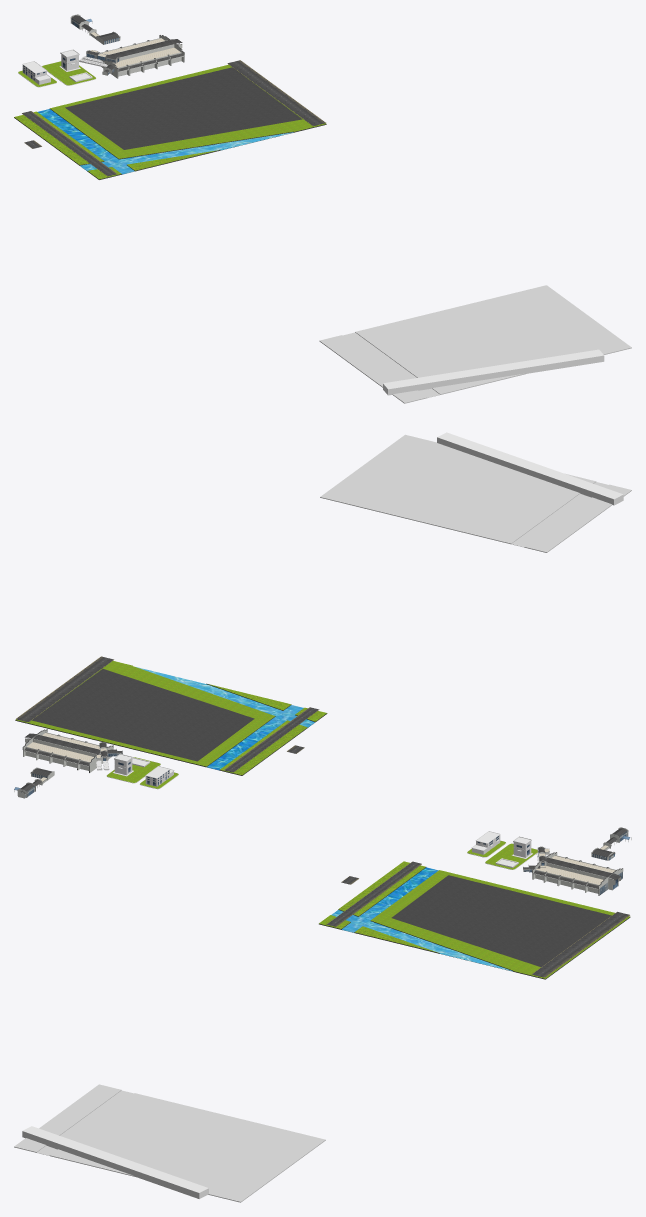
Rendered from runyang3.glb.
3 renders of one model, top to bottom at view 1: azimuth 30°, elevation 25°; view 2: azimuth 150°, elevation 25°; view 3: azimuth 330°, elevation 25°, orthographic.
Visible parts, largest first — view 1: 立方体.001, 立方体.004, 立方体.003, v型滤池, 原水泵站, rua_Cubo.003, rua_Cubo.001, 调度中心.001; view 2: 立方体.004, 立方体.001, 立方体.003, v型滤池, 原水泵站, rua_Cubo.003, rua_Cubo.001, 调度中心.001; view 3: 立方体.001, 立方体.004, 立方体.003, v型滤池, 原水泵站, rua_Cubo.003, rua_Cubo.001, 调度中心.001.
Boxes of the visible parts, <box> form: 立方体.001: <box>14,64,326,179</box>; 立方体.004: <box>319,285,631,403</box>; 立方体.003: <box>383,349,604,395</box>; v型滤池: <box>98,35,184,78</box>; 原水泵站: <box>18,49,96,87</box>; rua_Cubo.003: <box>227,60,325,126</box>; rua_Cubo.001: <box>22,111,116,176</box>; 调度中心.001: <box>70,14,120,44</box>; 立方体.004: <box>320,434,631,552</box>; 立方体.001: <box>15,661,327,775</box>; 立方体.003: <box>437,432,623,505</box>; v型滤池: <box>22,729,113,772</box>; 原水泵站: <box>106,753,178,789</box>; rua_Cubo.003: <box>16,656,113,722</box>; rua_Cubo.001: <box>224,707,319,772</box>; 调度中心.001: <box>14,767,54,798</box>; 立方体.001: <box>319,861,630,979</box>; 立方体.004: <box>14,1084,325,1202</box>; 立方体.003: <box>22,1126,208,1198</box>; v型滤池: <box>532,852,623,895</box>; 原水泵站: <box>467,831,538,869</box>; rua_Cubo.003: <box>532,911,629,977</box>; rua_Cubo.001: <box>326,861,421,926</box>; 调度中心.001: <box>591,827,631,860</box>.
Size of the model in its own units: 529 by 41.07 by 1758.
31 materials, 21 textured.
